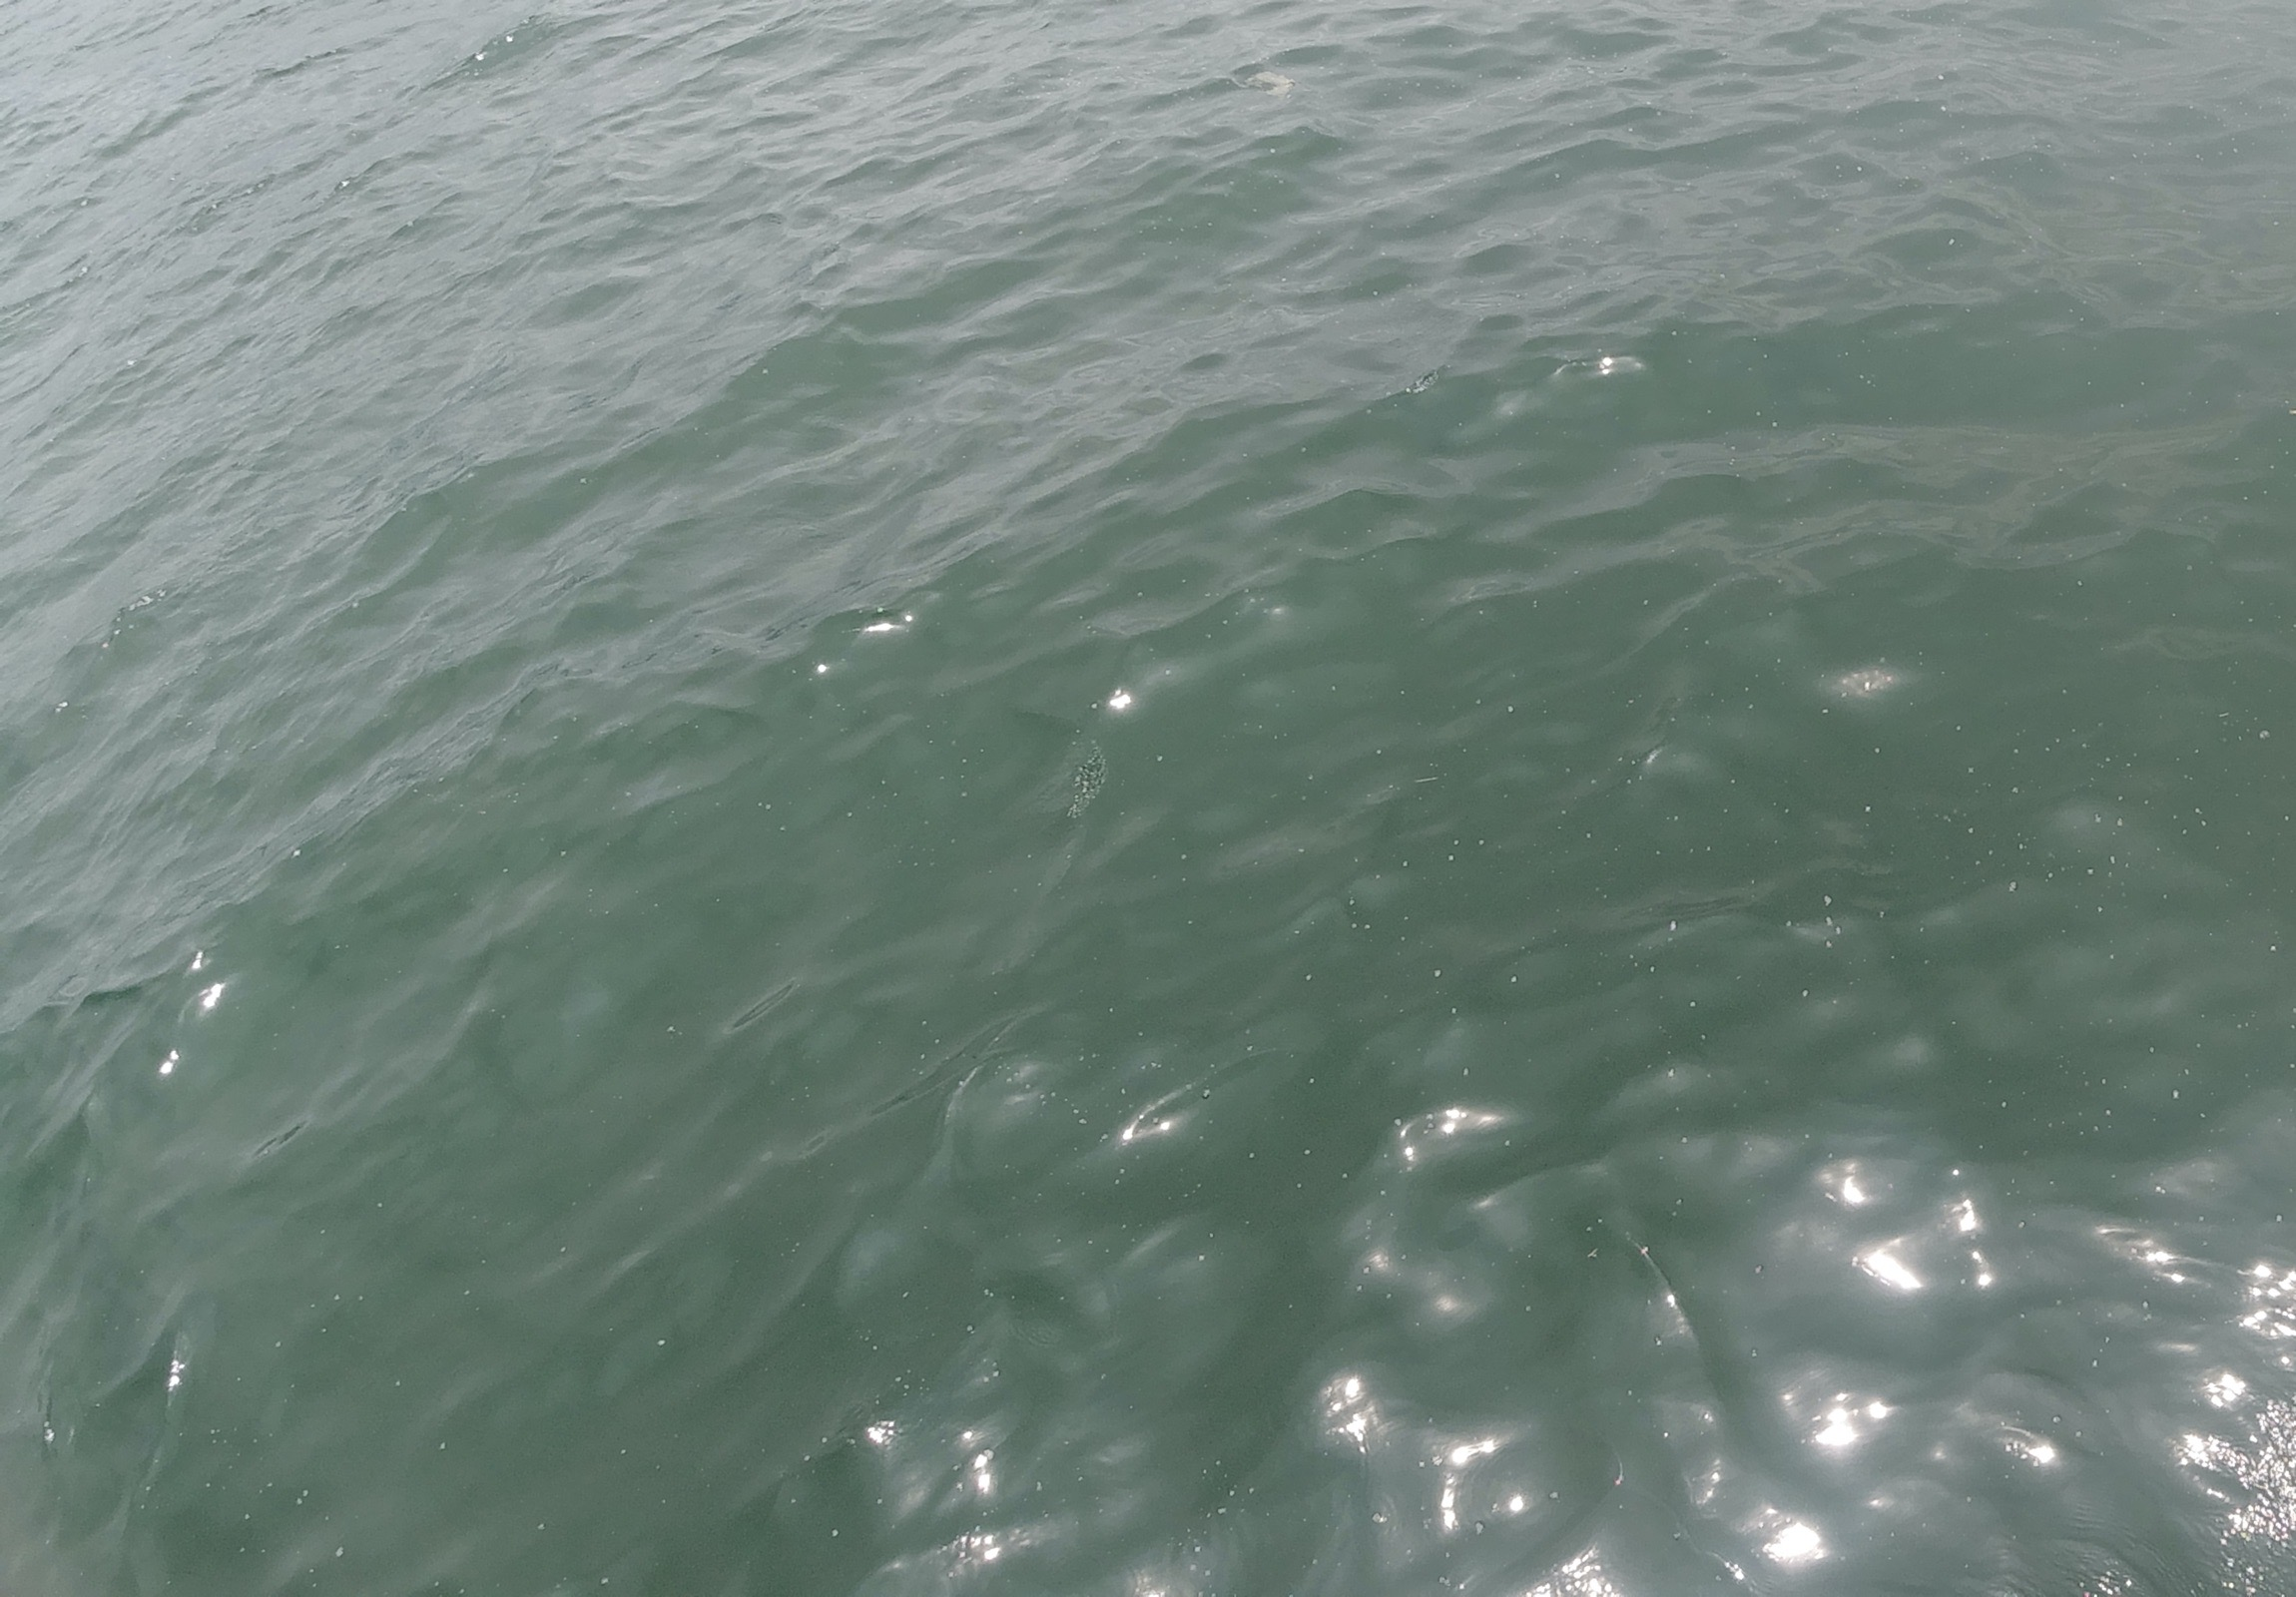plastic: (1221, 61, 1312, 113)
